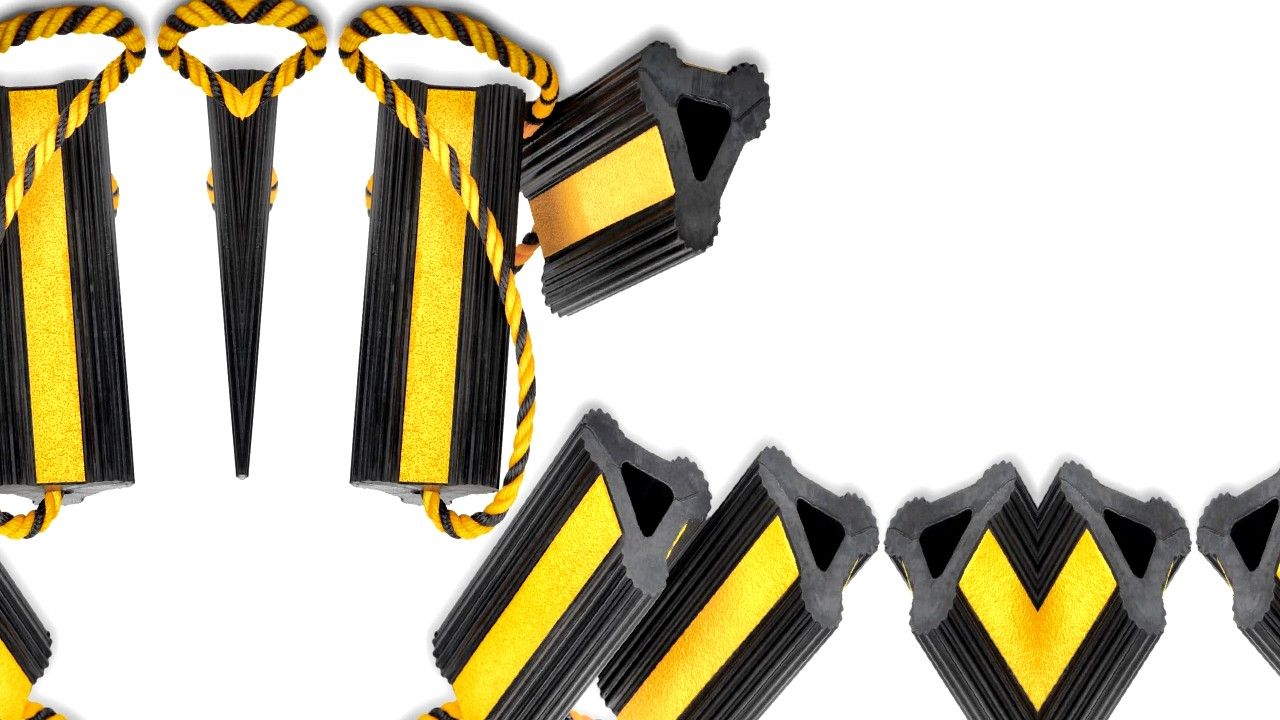chock: (420, 392, 719, 720), (585, 421, 888, 720), (339, 75, 533, 512), (504, 27, 775, 334), (0, 75, 145, 512), (861, 439, 1038, 720), (1038, 439, 1215, 720), (1188, 421, 1280, 720), (0, 392, 64, 720)
